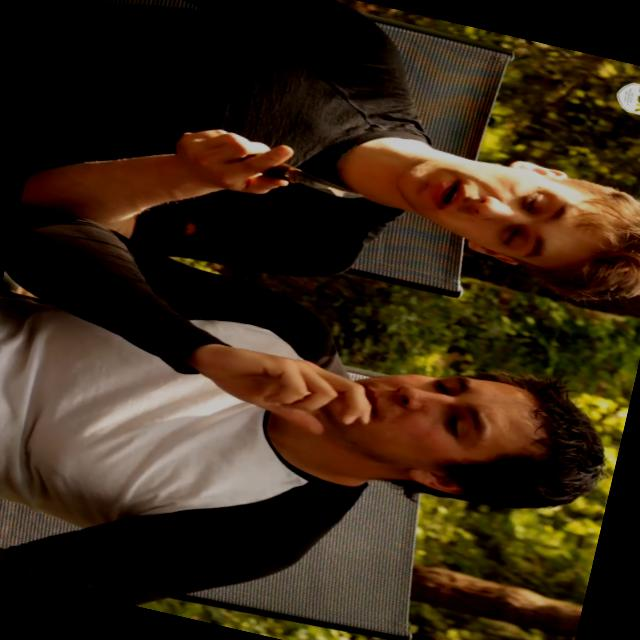knife: (214, 123, 388, 224)
